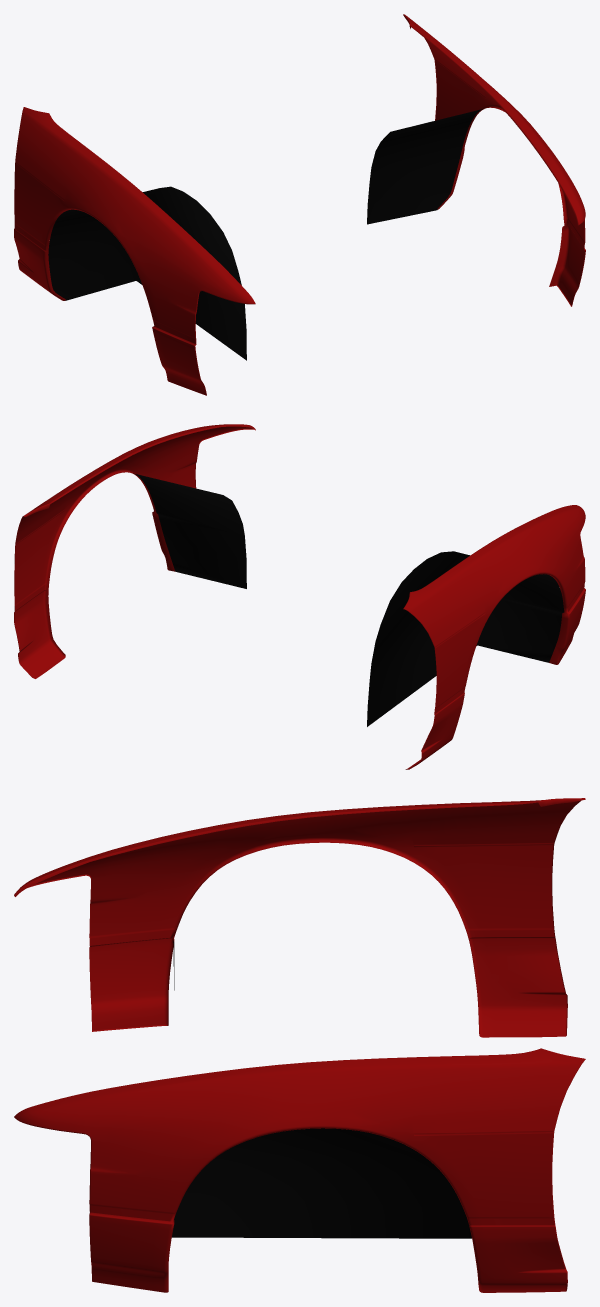
File: frontfenders_oem.glb
The picture shows the model from 3 angles, top to bottom: view 1: azimuth 30°, elevation 25°; view 2: azimuth 150°, elevation 25°; view 3: azimuth 270°, elevation 25°; orthographic projection. The views are drawn at different scales.
Parts seen in each view (by area): view 1: Fenders, Undercarriage; view 2: Fenders, Undercarriage; view 3: Fenders, Undercarriage.
Part boxes in pixels (x1,y1,x2,y2): Fenders: [14, 14, 585, 395]; Undercarriage: [48, 108, 483, 360]; Fenders: [14, 424, 585, 769]; Undercarriage: [133, 473, 564, 726]; Fenders: [14, 798, 585, 1292]; Undercarriage: [167, 940, 471, 1238].
Bounding box in the file's own units: 1.69 × 0.6539 × 1.41.
